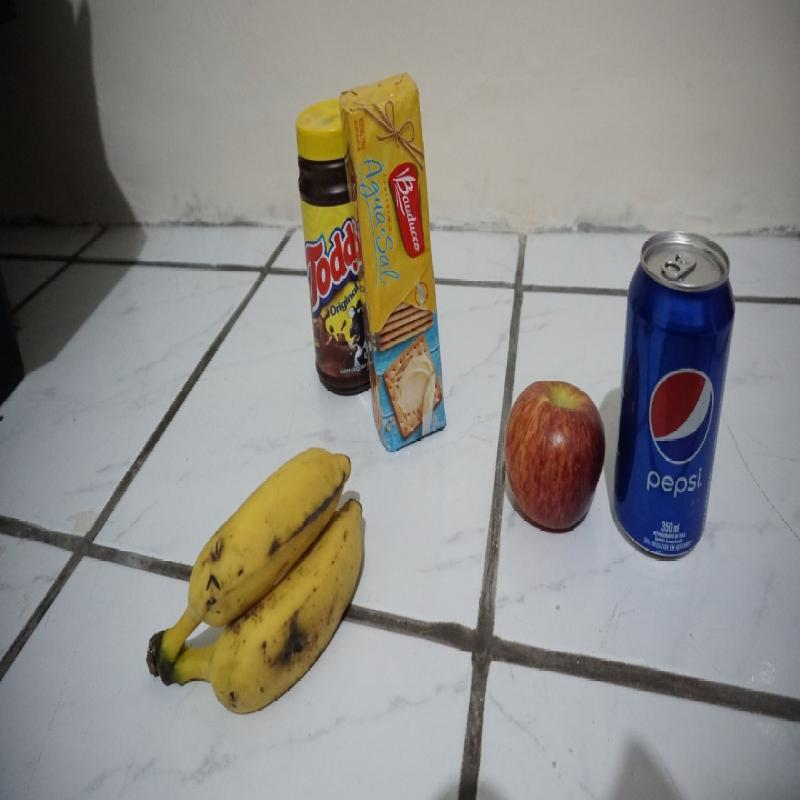Apple: (504, 379, 606, 531)
Banana: (145, 446, 365, 717)
Chocolate Powder: (294, 96, 372, 398)
Cracker: (339, 71, 449, 454)
Soda can: (613, 228, 738, 562)
